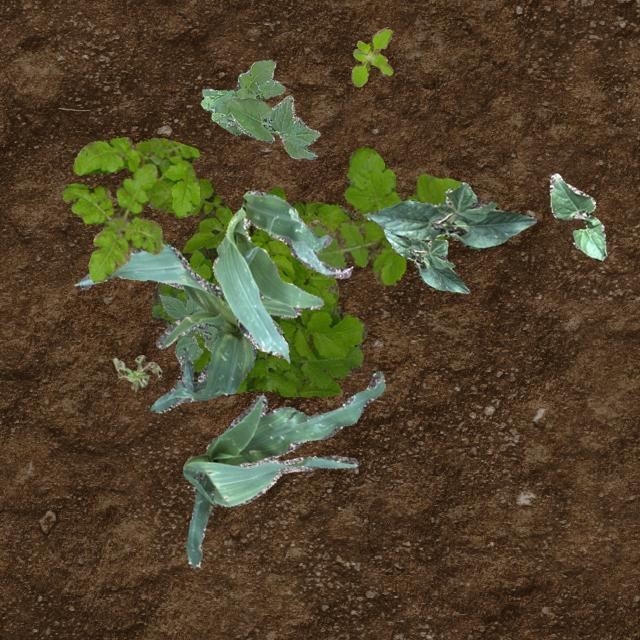crop: (182, 370, 384, 568), (74, 243, 255, 412), (212, 188, 351, 362), (364, 182, 536, 248), (156, 288, 282, 361), (226, 94, 320, 158), (382, 227, 468, 293), (548, 172, 606, 260)
weed: (147, 178, 366, 396), (306, 146, 461, 284), (62, 136, 198, 282), (200, 59, 284, 134), (351, 26, 392, 86), (112, 354, 160, 391)
